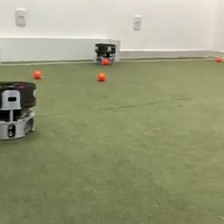ball: (33, 69, 42, 79), (96, 72, 105, 81), (102, 56, 110, 64), (216, 55, 223, 63)
goal: (1, 34, 122, 63)
robot: (1, 79, 39, 143), (93, 41, 118, 66)
